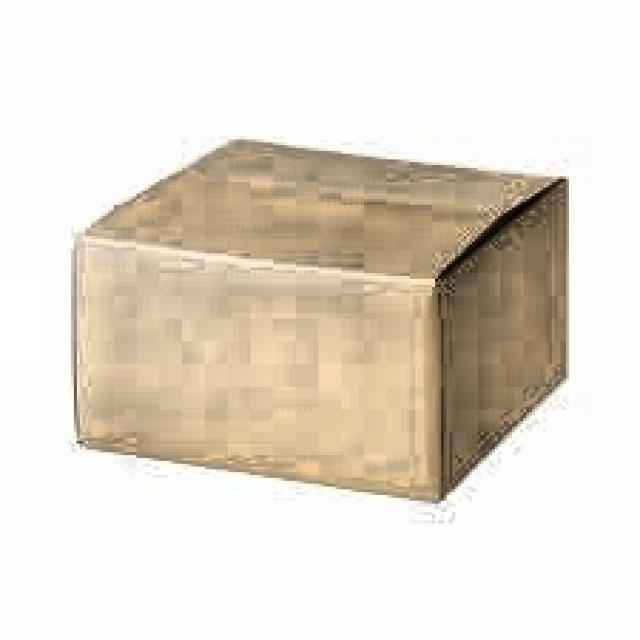Cardbox: (59, 114, 597, 515)
